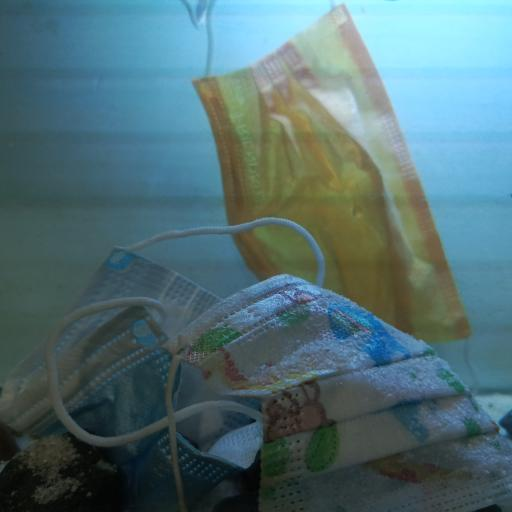mask: (190, 0, 473, 346), (1, 216, 326, 512), (160, 270, 512, 512)
